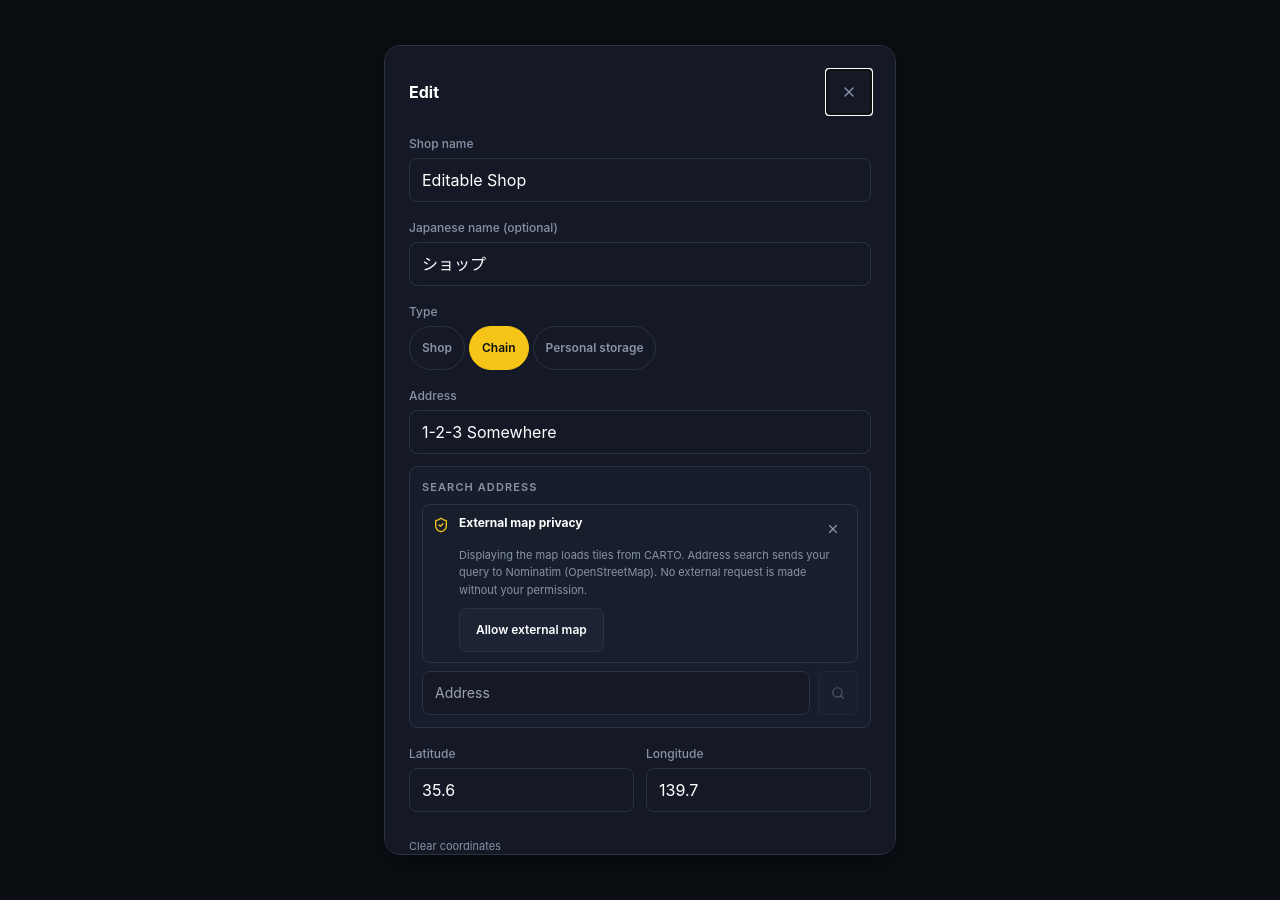
Test case: AddEditPlaceModal branches › clears coordinates when the clear control is clicked
Click the button "Clear coordinates" at (455, 846), box 409,824 -> 501,868
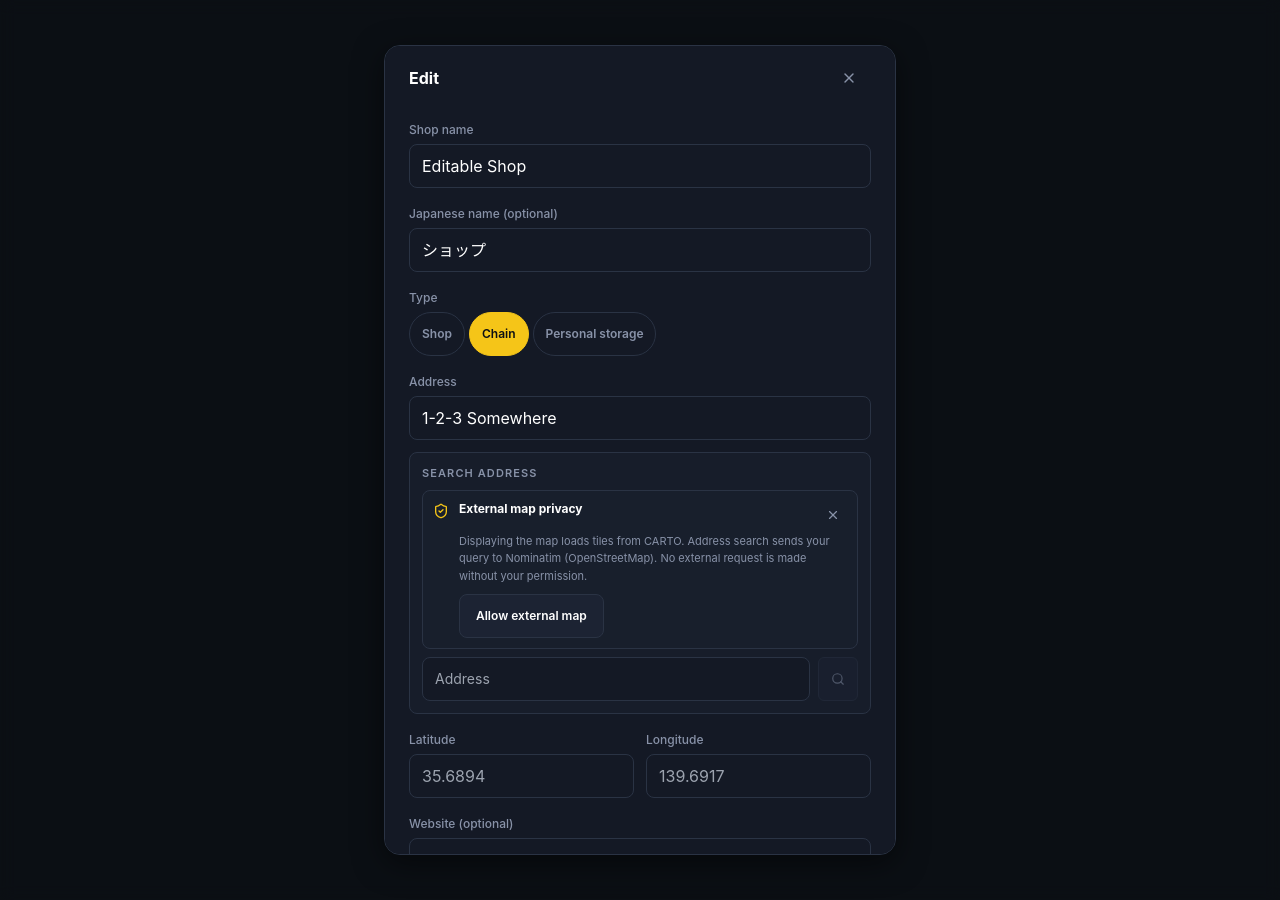
Check: the number field with placeholder "35.6894" is empty, box 409,754 -> 634,798
Check: the number field with placeholder "139.6917" is empty, box 646,754 -> 871,798
Check: the button "Clear coordinates" is gone
